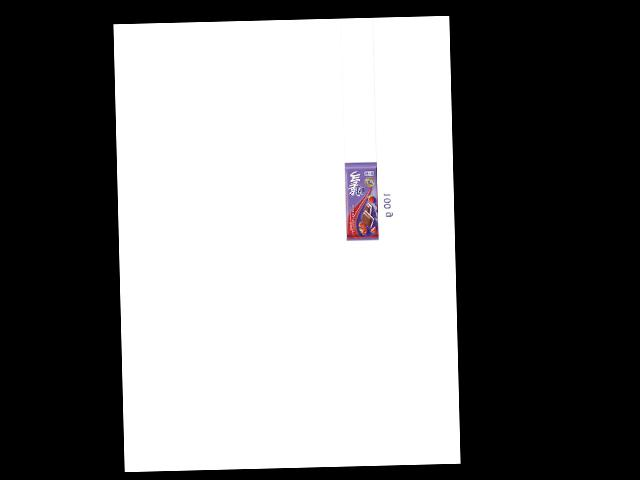chocolate: (344, 162, 382, 241)
